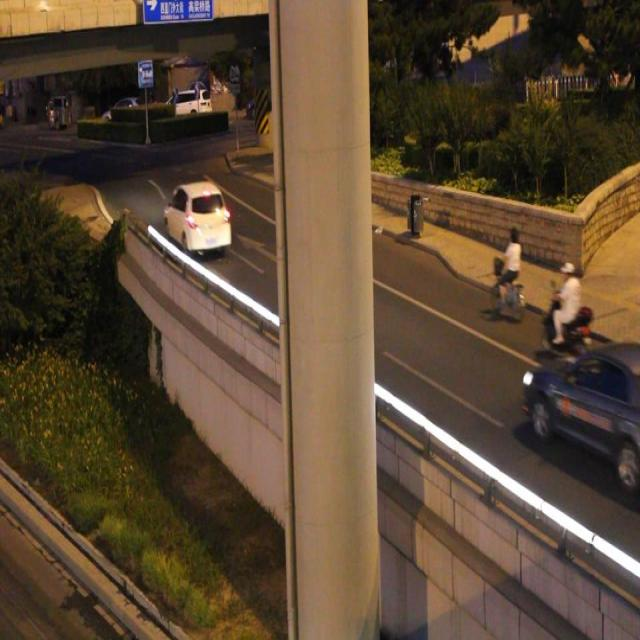car: (522, 337, 640, 481), (162, 179, 231, 255)
